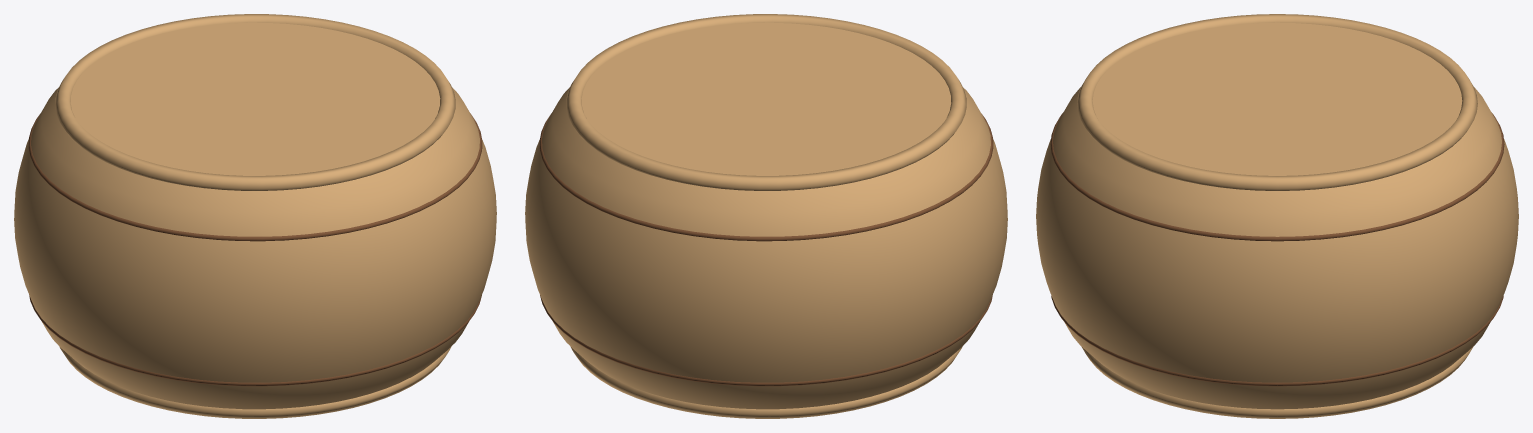
The model's file is Barrel.fbx.
3 views of the same model, side by side, from view 1: azimuth 30°, elevation 25°; view 2: azimuth 150°, elevation 25°; view 3: azimuth 270°, elevation 25° (orthographic).
Visible parts, largest first — view 1: Barrel body, Dark carved groove; view 2: Barrel body, Dark carved groove; view 3: Barrel body, Dark carved groove.
Part boxes in pixels (x1,y1,x2,y2): Barrel body: (14,14,496,418); Dark carved groove: (28,113,482,386); Barrel body: (525,14,1007,418); Dark carved groove: (539,113,993,386); Barrel body: (1036,14,1518,418); Dark carved groove: (1050,112,1504,386).
Bounding box in the file's own units: 194 × 106 × 194.
